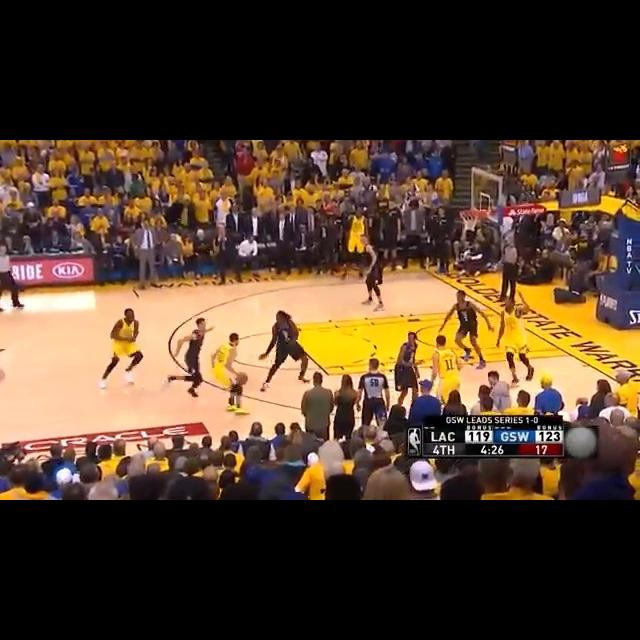basketball: (235, 372, 249, 387)
hoop: (461, 206, 482, 232)
